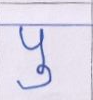u_matra: (16, 65, 56, 91)
